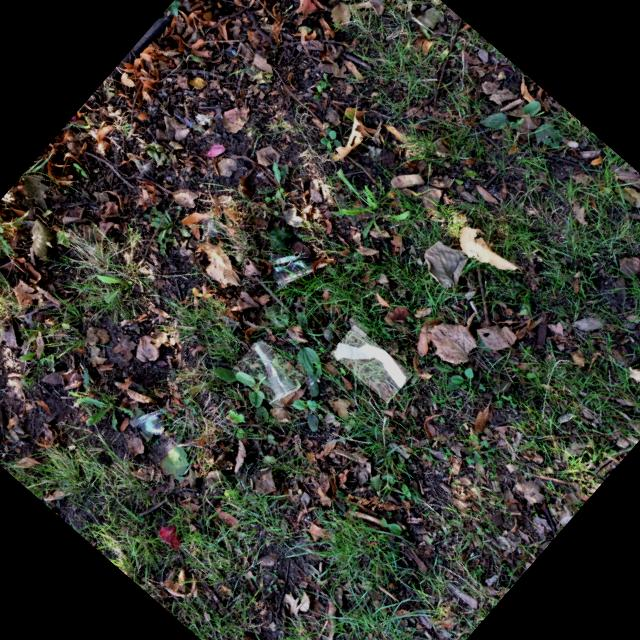Cup: (252, 341, 297, 404), (268, 254, 328, 288)
Other plastic bottle: (133, 410, 163, 436)
Paper bag: (333, 344, 405, 389)
